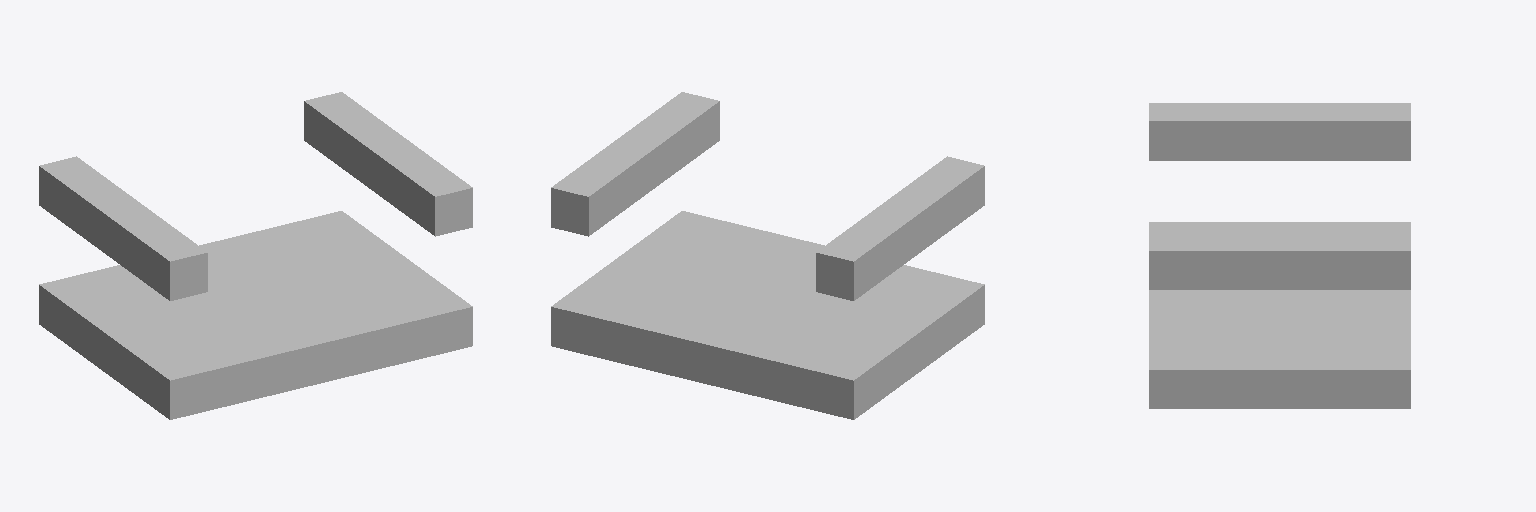
The model's file is 04_cave_03_smallbridge_segment_patch_2X.obj.
3 views of the same model, side by side, from view 1: azimuth 30°, elevation 25°; view 2: azimuth 150°, elevation 25°; view 3: azimuth 270°, elevation 25° (orthographic).
Bounding box in the file's own units: 8 × 4 × 6.